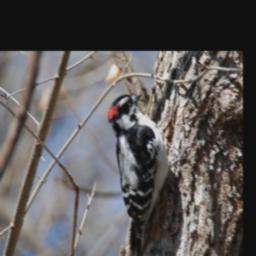Woodpecker: (105, 89, 172, 256)
